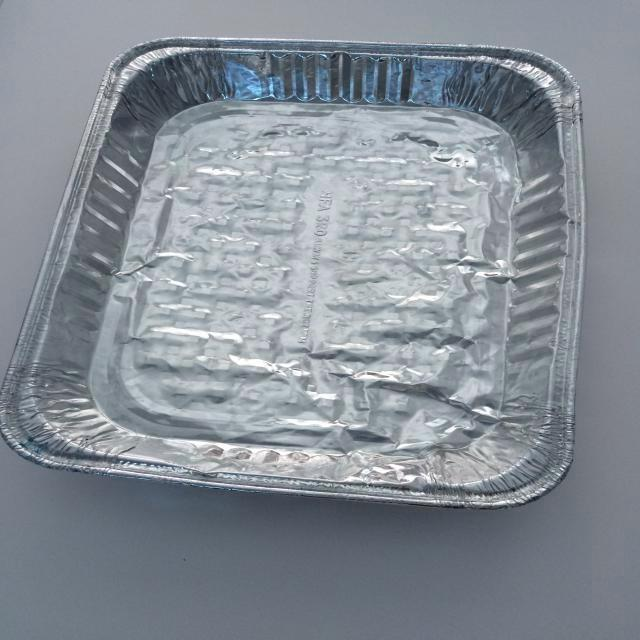metal: (0, 20, 640, 520)
